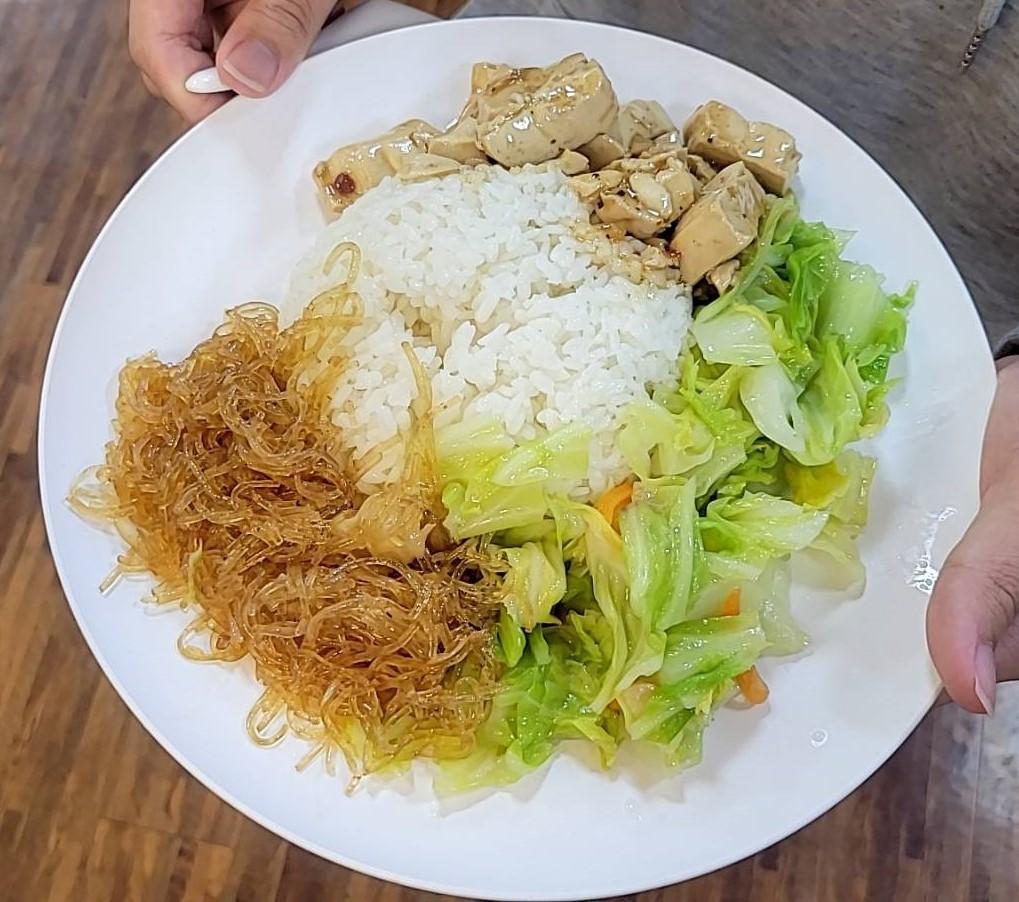big fried chicken leg: (34, 24, 1013, 890)
big herbal chicken leg: (284, 155, 711, 556)
braised fish fillet: (479, 198, 914, 793), (72, 326, 511, 778), (326, 46, 812, 268)
